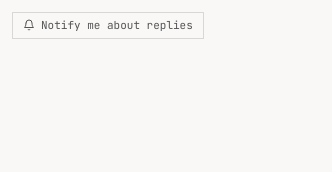
Scenario: RoomNotifyToggle › opts in, then shows the state the API answered
The width and height of the screenshot is (332, 172).
Click the button "Notify me about replies".
click(108, 25)  # box top-left (12, 12), bottom-right (204, 38)
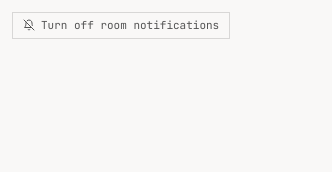
Expected: the button "Turn off room notifications" is shown, top-left (12, 12), bottom-right (230, 38)
